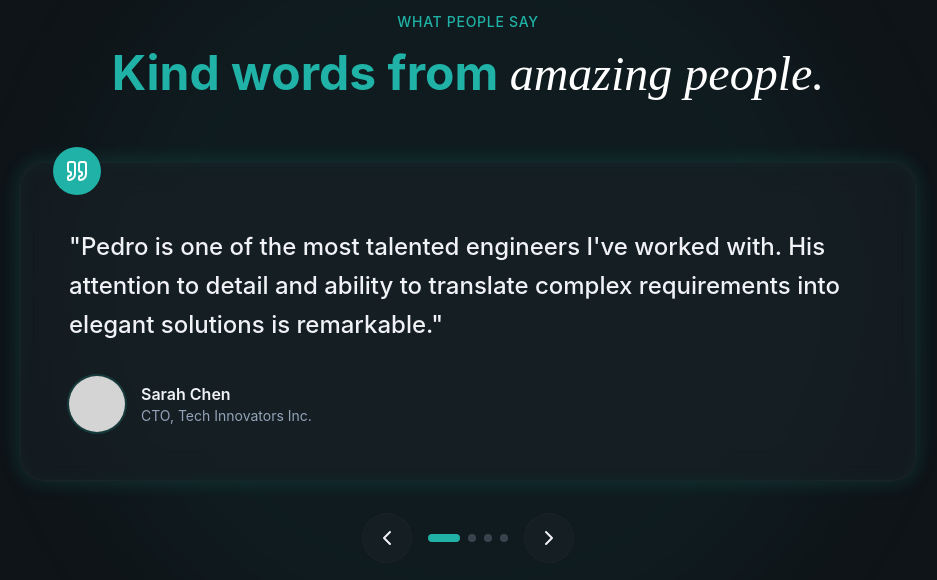
Testimonials section › navigates directly when dot indicator is clicked
The image size is (937, 580).
Click the button named "Go to testimonial 3" at (488, 538), box [484,534,492,542]
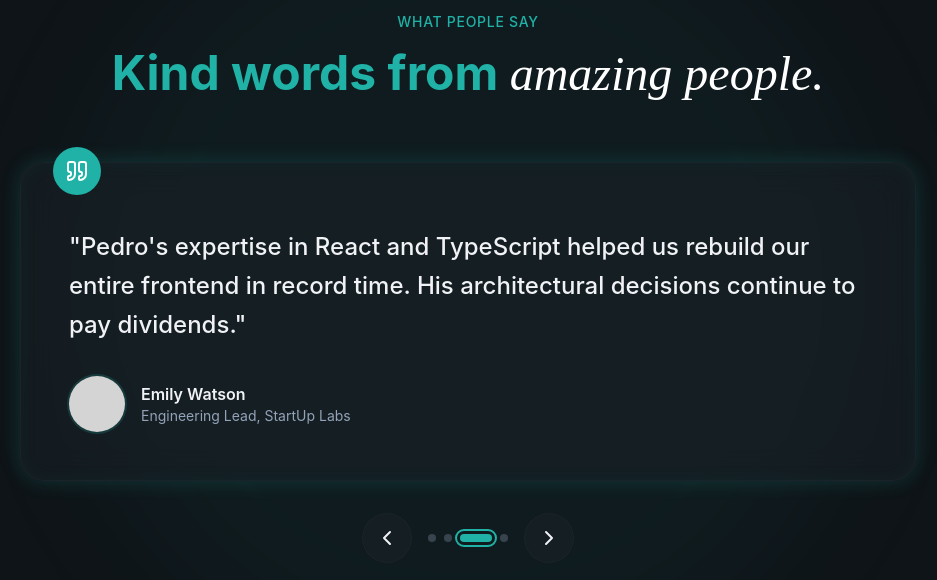
Expected: the text "Emily Watson" is shown, [141,384,246,404]
